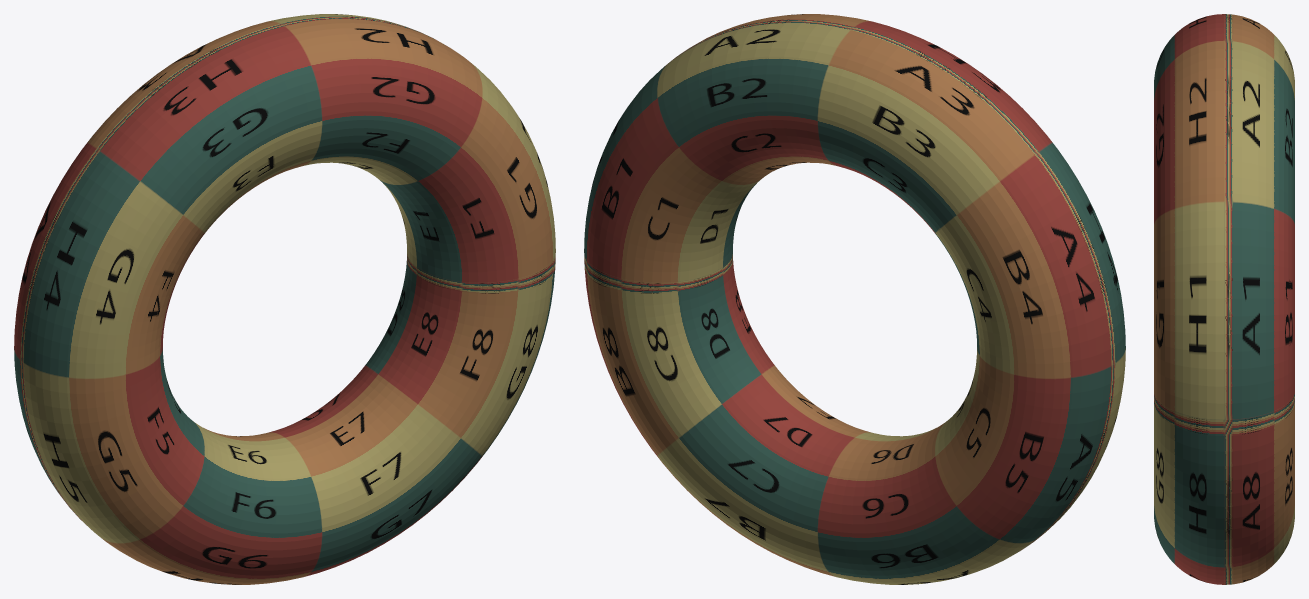
The model's file is texture_torus_R8_r8.glb.
3 renders of one model, left to right at view 1: azimuth 30°, elevation 25°; view 2: azimuth 150°, elevation 25°; view 3: azimuth 270°, elevation 25°, orthographic. The views are drawn at different scales.
Visible parts, largest first — view 1: world; view 2: world; view 3: world.
Part boxes in pixels (bbox=[...]): world: bbox=[14, 14, 555, 584]; world: bbox=[584, 14, 1125, 584]; world: bbox=[1154, 14, 1294, 584].
Bounding box in the file's own units: 36.89 × 36.89 × 9.09.
Materials: 1 (1 with a texture image).
